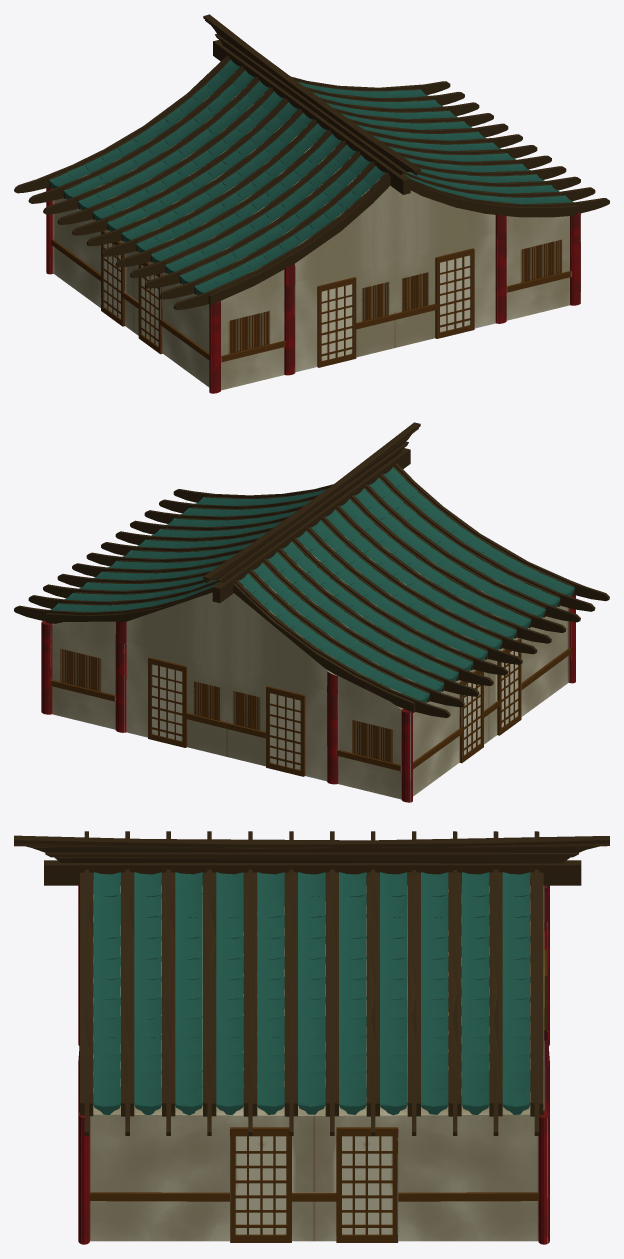
Rendered from Tapınak_withTexture.fbx.
3 renders of one model, top to bottom at view 1: azimuth 30°, elevation 25°; view 2: azimuth 150°, elevation 25°; view 3: azimuth 270°, elevation 25°, orthographic. The views are drawn at different scales.
Visible parts, largest first — view 1: RoofCaps, Cube.001; view 2: RoofCaps, Cube.001; view 3: RoofCaps, Cube.001.
Part boxes in pixels (box(x1,y1,x2,y2)): RoofCaps: box(14, 14, 609, 309); Cube.001: box(46, 72, 580, 393); RoofCaps: box(14, 422, 609, 717); Cube.001: box(41, 484, 575, 802); RoofCaps: box(14, 831, 609, 1135); Cube.001: box(78, 885, 549, 1244).
Size of the model in its own units: 2745 by 1189 by 2309.
3 materials, 1 textured.
